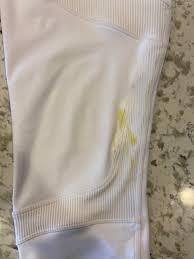lipstick: (117, 109, 136, 143), (131, 155, 140, 178)
